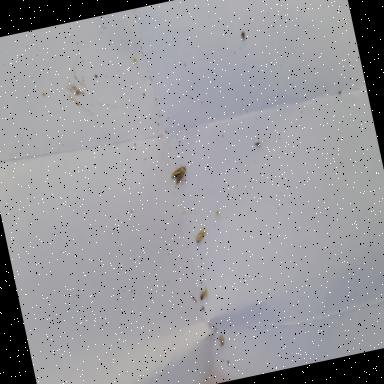pbw: (168, 164, 190, 187), (192, 224, 208, 243)
